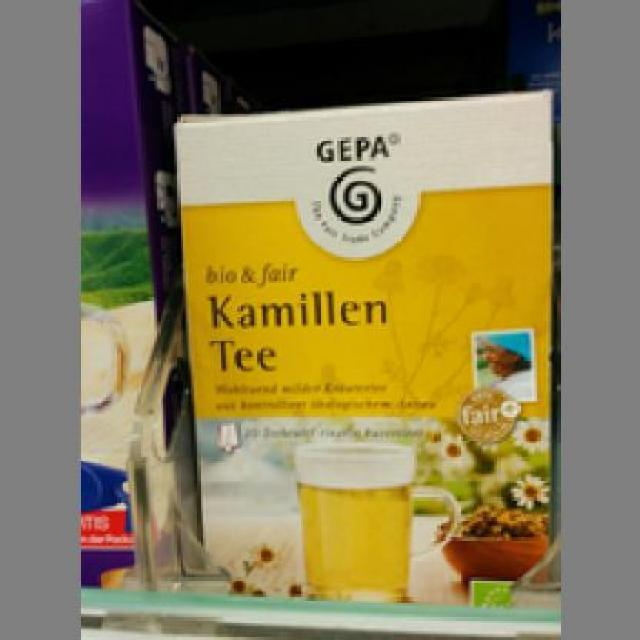Tea: (166, 86, 552, 608)
